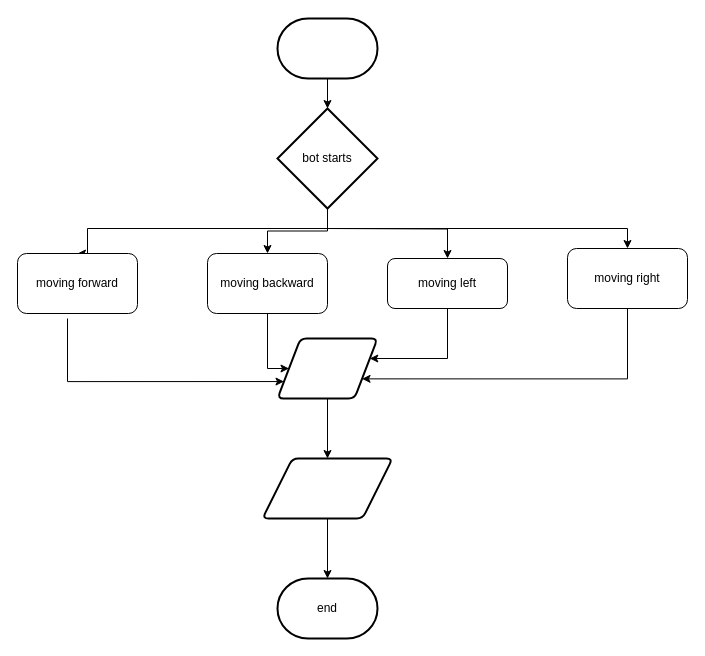
This 705x656 diagram has some shape labels left out. The centre of each missing label's shape, as x and y in pixels:
"electrical energy to mechanical" goes at point 327,488.
"speed of movement" goes at point 327,368.
"start" goes at point 327,48.
